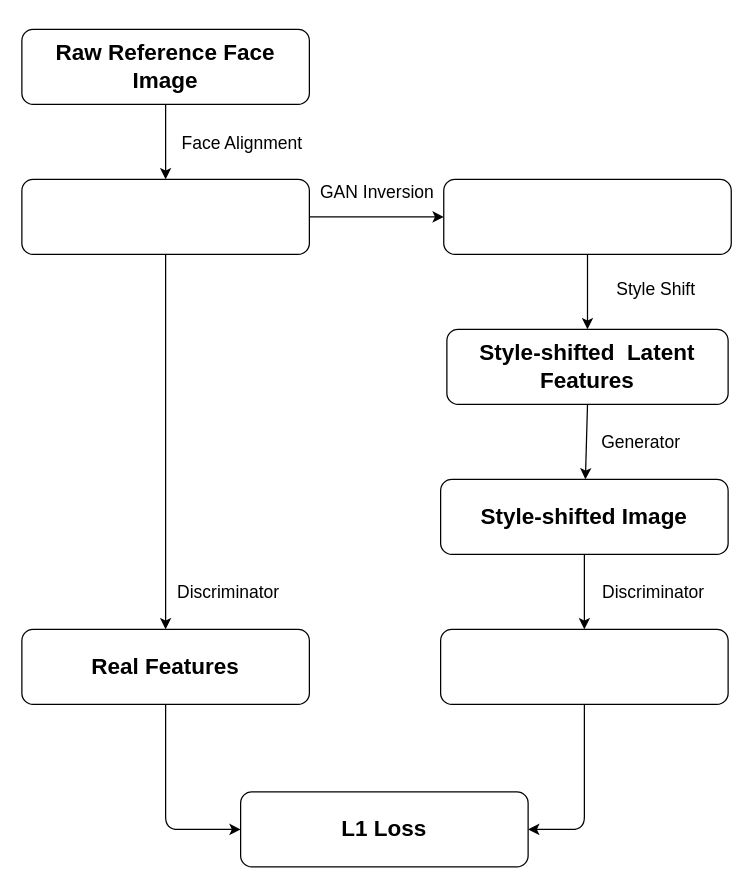
Image size: 754x889. Some labels were removed from this diagram. The centre of each missing label's shape, as x and y in pixels:
"Face-aligned Image" goes at (x=165, y=216).
"Fake Features" goes at (x=583, y=666).
"Latent Features" goes at (x=586, y=216).
